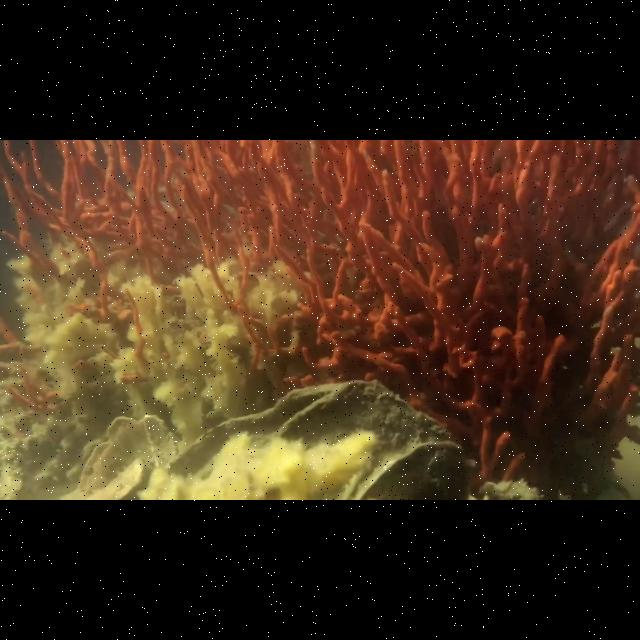Oyster-Closed: (75, 414, 173, 500), (348, 440, 471, 500)
Oyster-Open: (146, 367, 448, 491)
